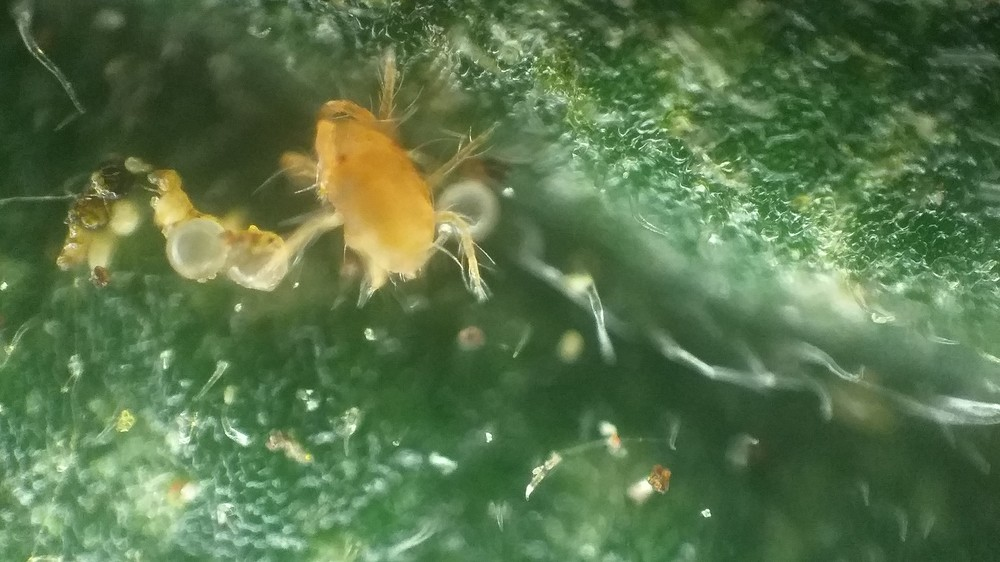Aracnido Rojo: (244, 41, 541, 321)
